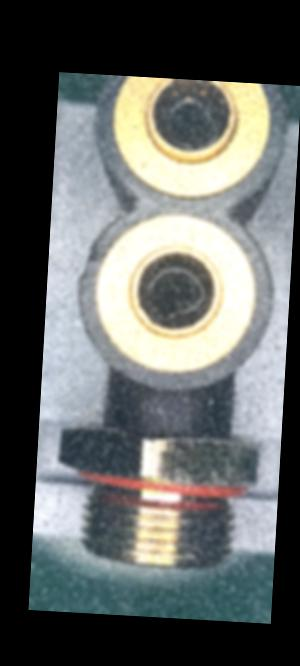bump: (81, 239, 101, 283)
off-centered: (140, 256, 212, 327), (159, 85, 231, 153)
white mark: (169, 406, 189, 427)
